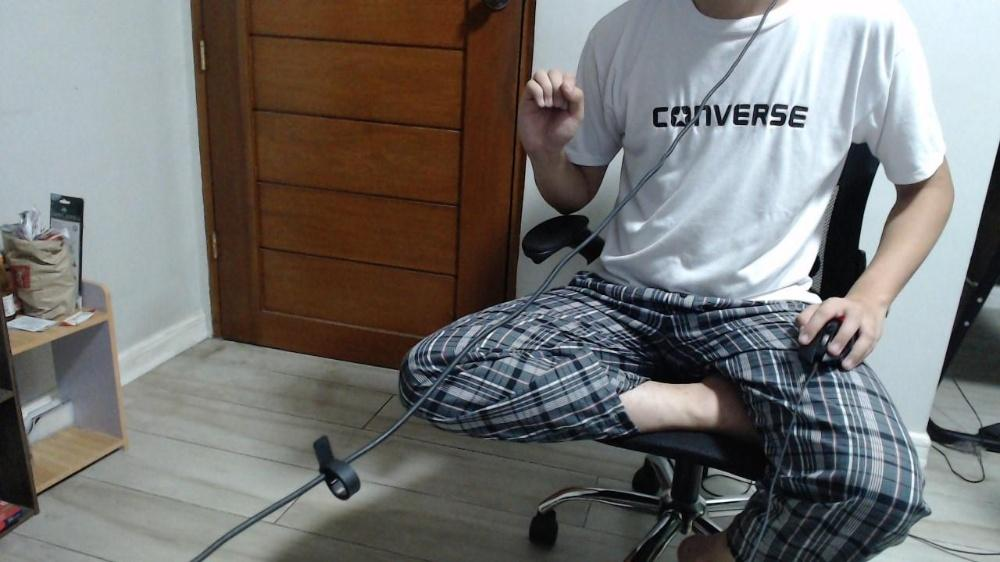s: (514, 69, 585, 149)
